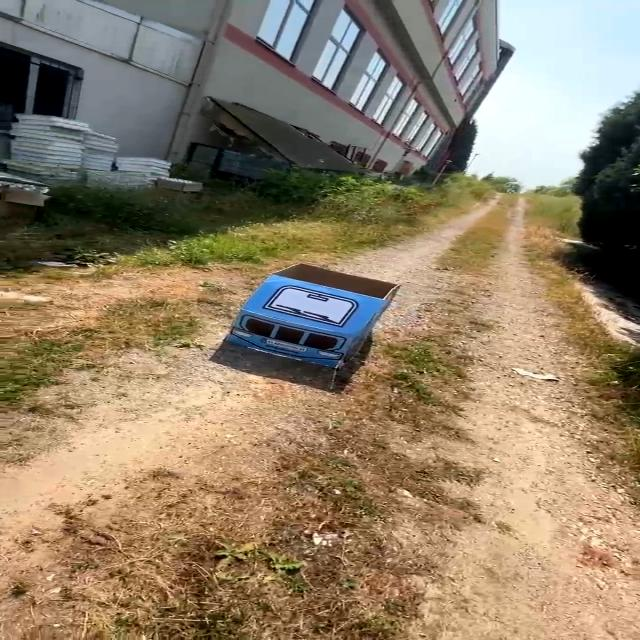blue_car: (205, 242, 412, 379)
